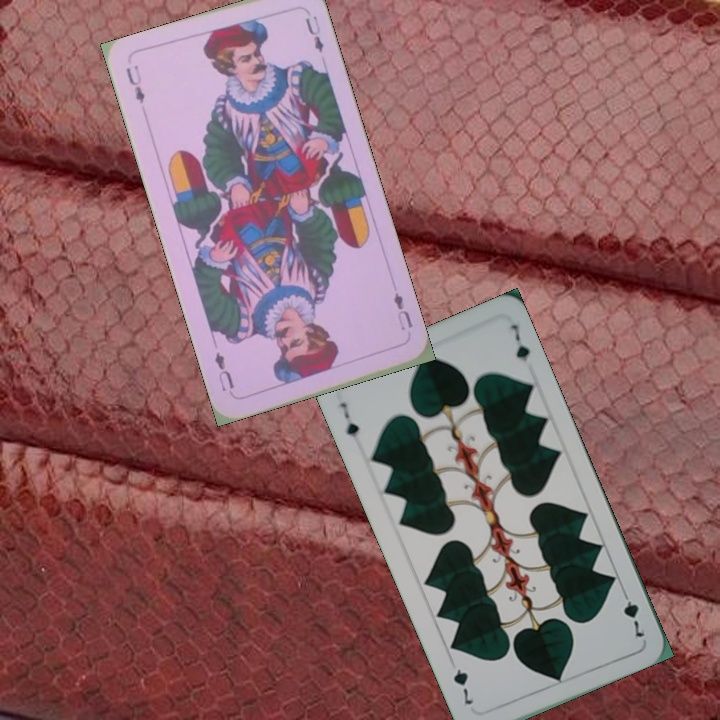EU: (389, 288, 416, 333), (122, 61, 147, 107)
G7: (618, 585, 647, 640), (335, 398, 362, 447)
